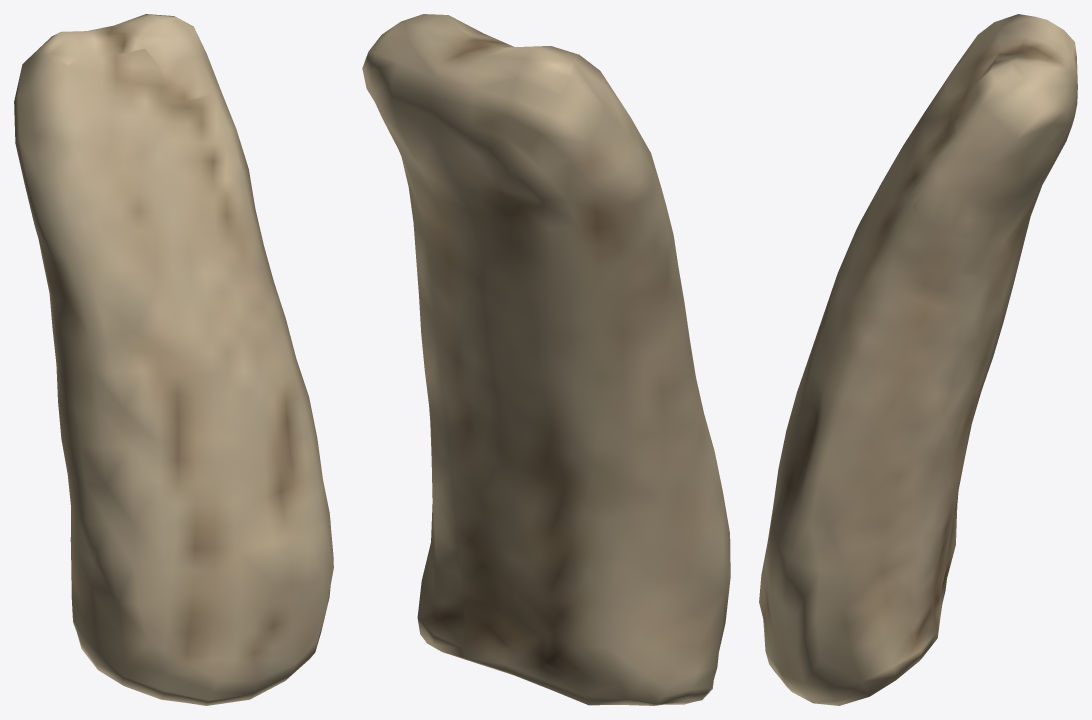
Rendered from Upper_Incisor3.glb.
The picture shows the model from 3 angles, left to right: view 1: azimuth 30°, elevation 25°; view 2: azimuth 150°, elevation 25°; view 3: azimuth 270°, elevation 25°; orthographic projection. The views are drawn at different scales.
Parts seen in each view (by area): view 1: Group3783_Mesh.077; view 2: Group3783_Mesh.077; view 3: Group3783_Mesh.077.
Part boxes in pixels (box(x1,y1,x2,y2)): Group3783_Mesh.077: box(14, 14, 333, 705); Group3783_Mesh.077: box(362, 14, 730, 705); Group3783_Mesh.077: box(759, 14, 1077, 705).
Bounding box in the file's own units: 0.013 × 0.0315 × 0.0146.
1 material, 1 textured.
